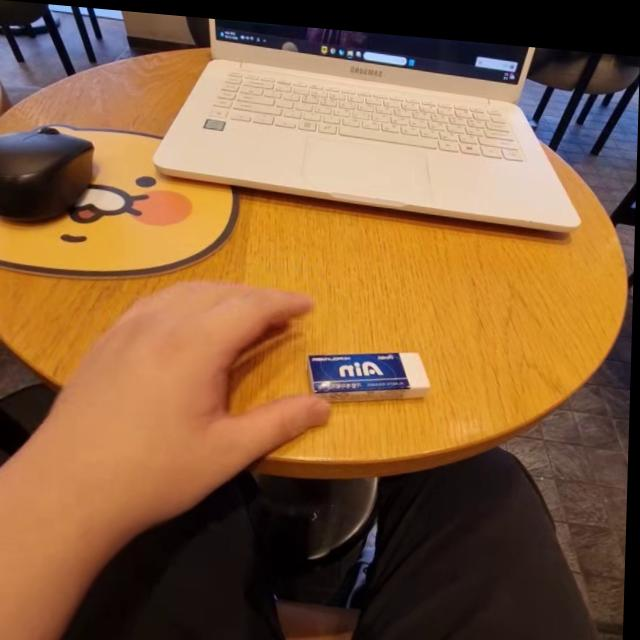eraser: (295, 327, 441, 403)
hand: (52, 246, 329, 523)
mouse: (0, 118, 108, 240)
